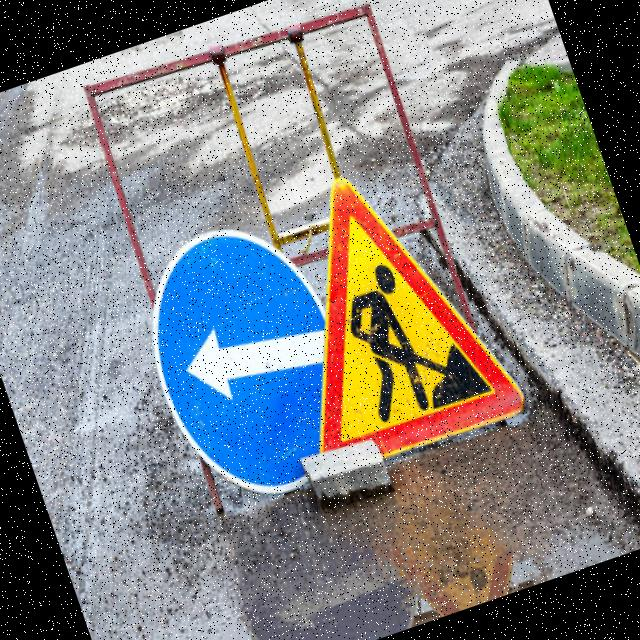road_work: (242, 142, 536, 483)
